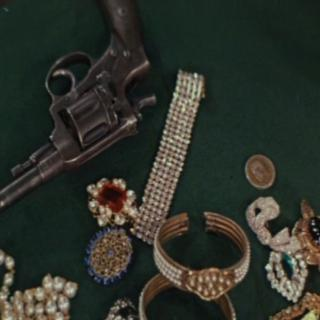gun: (2, 2, 163, 216)
